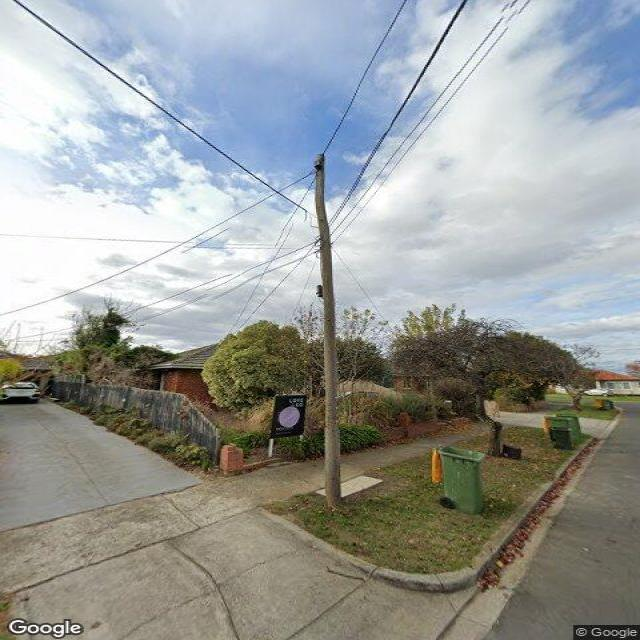timber-pole: (312, 154, 344, 506)
